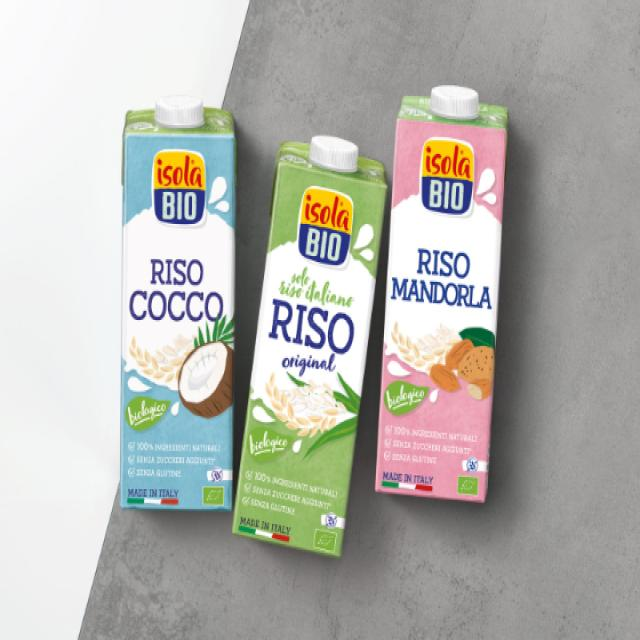cardboard: (235, 122, 381, 563), (380, 84, 518, 508), (109, 100, 233, 512)
